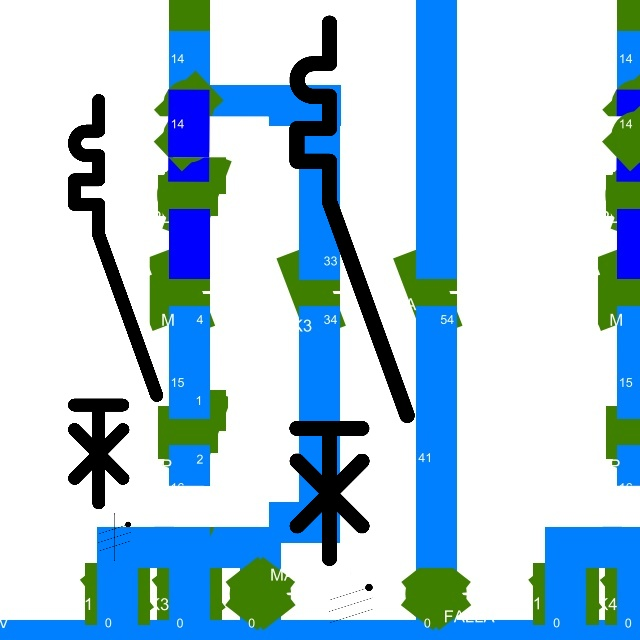interruptor_termomagnetico: (283, 9, 421, 573), (64, 90, 167, 513)
